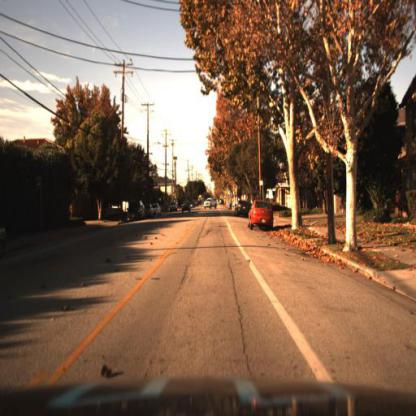car: (244, 196, 276, 234), (249, 198, 277, 231), (125, 196, 148, 222), (125, 199, 145, 225), (201, 194, 223, 216), (235, 200, 251, 221), (181, 200, 191, 216), (145, 203, 154, 218), (169, 201, 179, 213), (154, 204, 162, 218)
